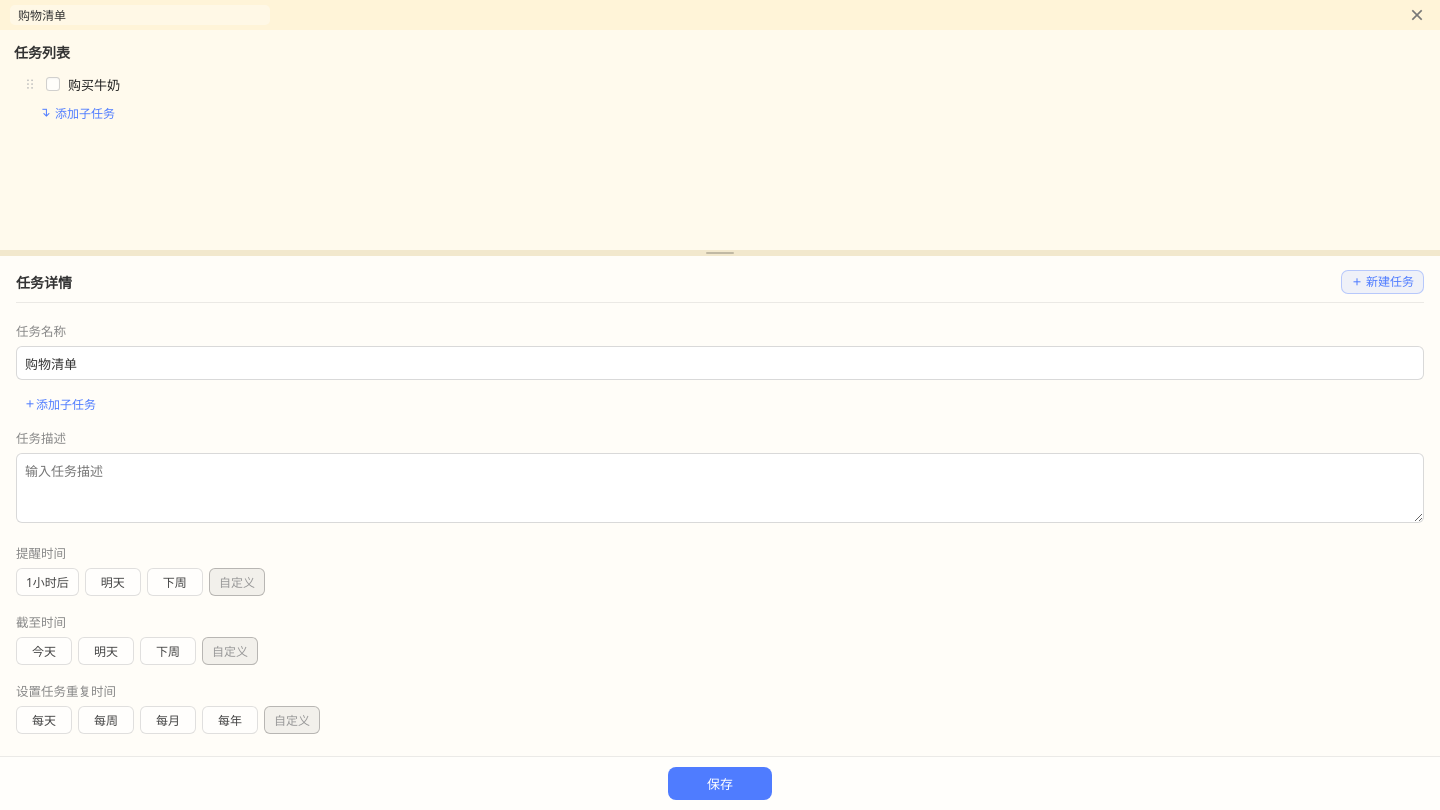
Test: Todo 提醒功能链路 › 点「1小时后」预设：写入合法 UTC ISO 的 reminder_at，面板显示格式化时间
Click the button "1小时后" at (47, 582), box [16,568,79,596]
Wait 300 ms
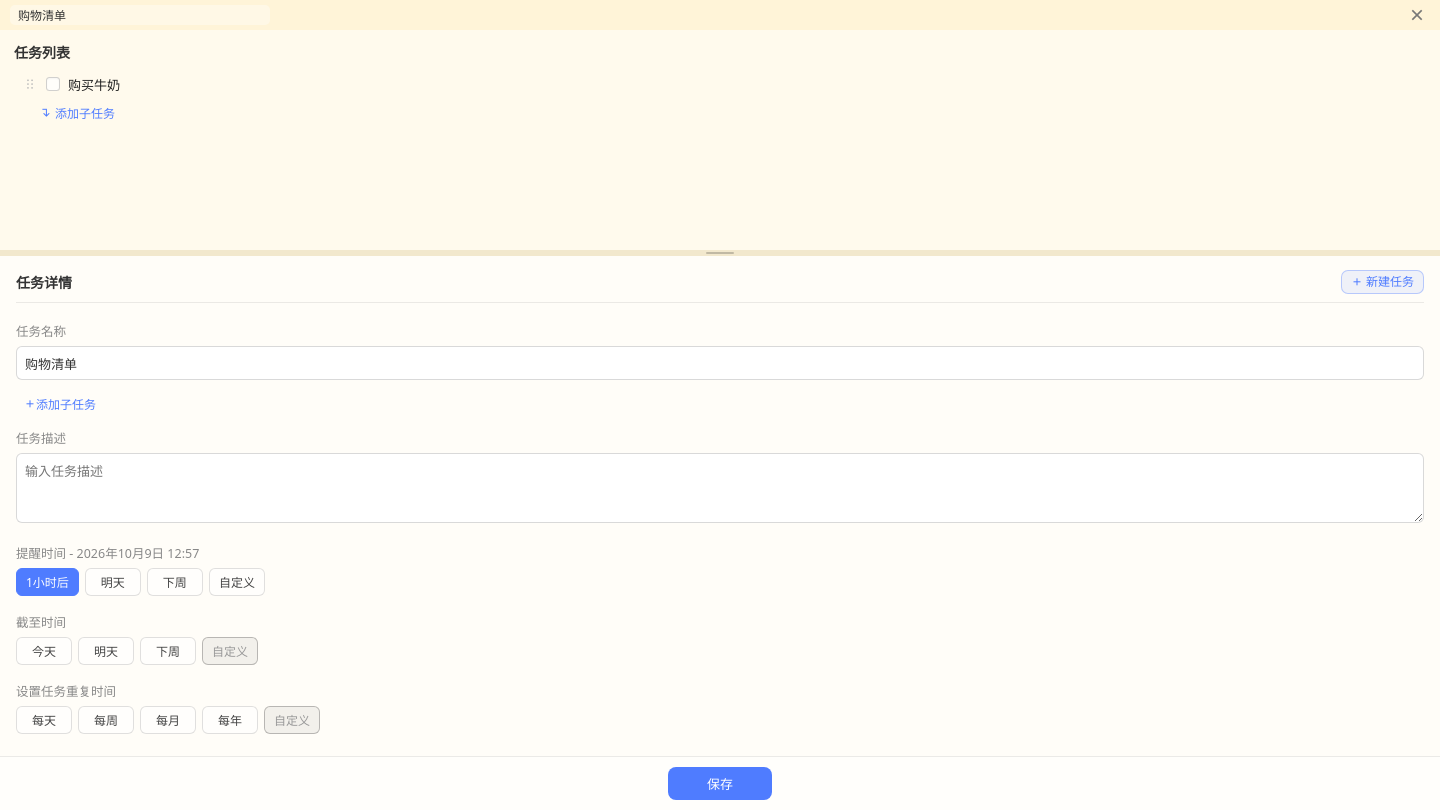
Check: the text with class "field-label" reads "提醒时间 - 2026年10月9日 12:57", box [16,545,199,562]
